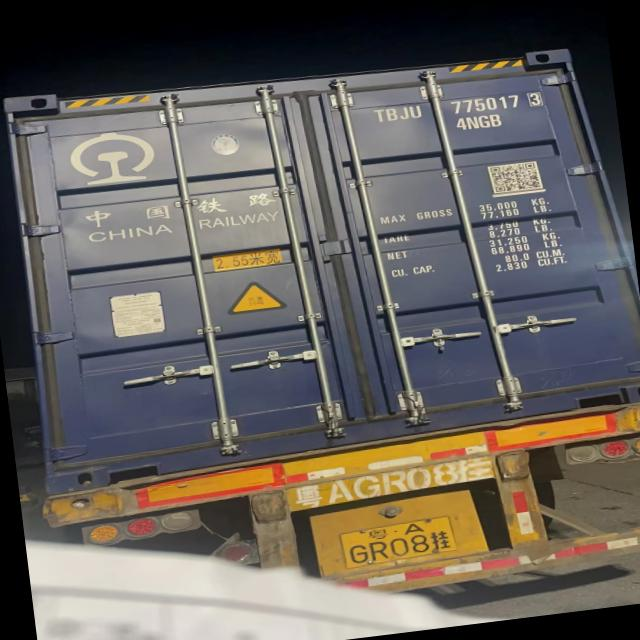seal: (426, 324, 454, 358)
